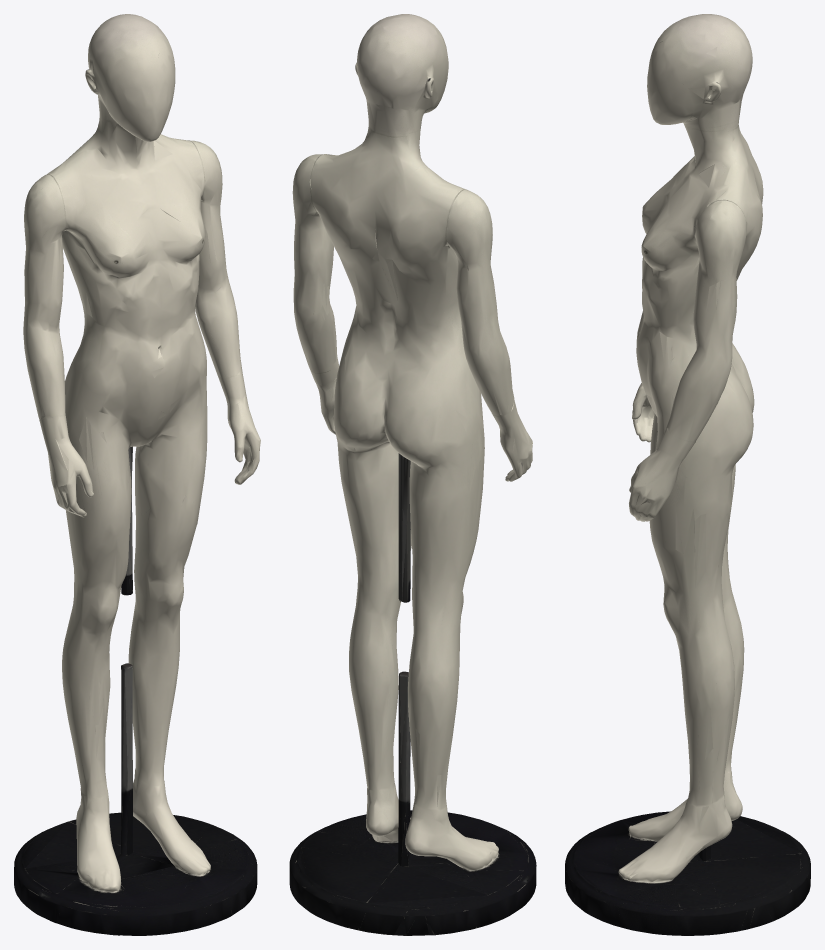
File: DisplayMannequin_Game.fbx
3 renders of one model, left to right at view 1: azimuth 30°, elevation 25°; view 2: azimuth 150°, elevation 25°; view 3: azimuth 270°, elevation 25°, orthographic.
Parts seen in each view (by area): view 1: output_unwrapped; view 2: output_unwrapped; view 3: output_unwrapped.
Boxes of the visible parts, left/top/right/bottom form: output_unwrapped: left=14, top=14, right=260, bottom=935; output_unwrapped: left=289, top=14, right=536, bottom=935; output_unwrapped: left=565, top=14, right=810, bottom=935.
Bounding box in the file's own units: 48.9 × 190 × 48.83.
1 material, 1 textured.
